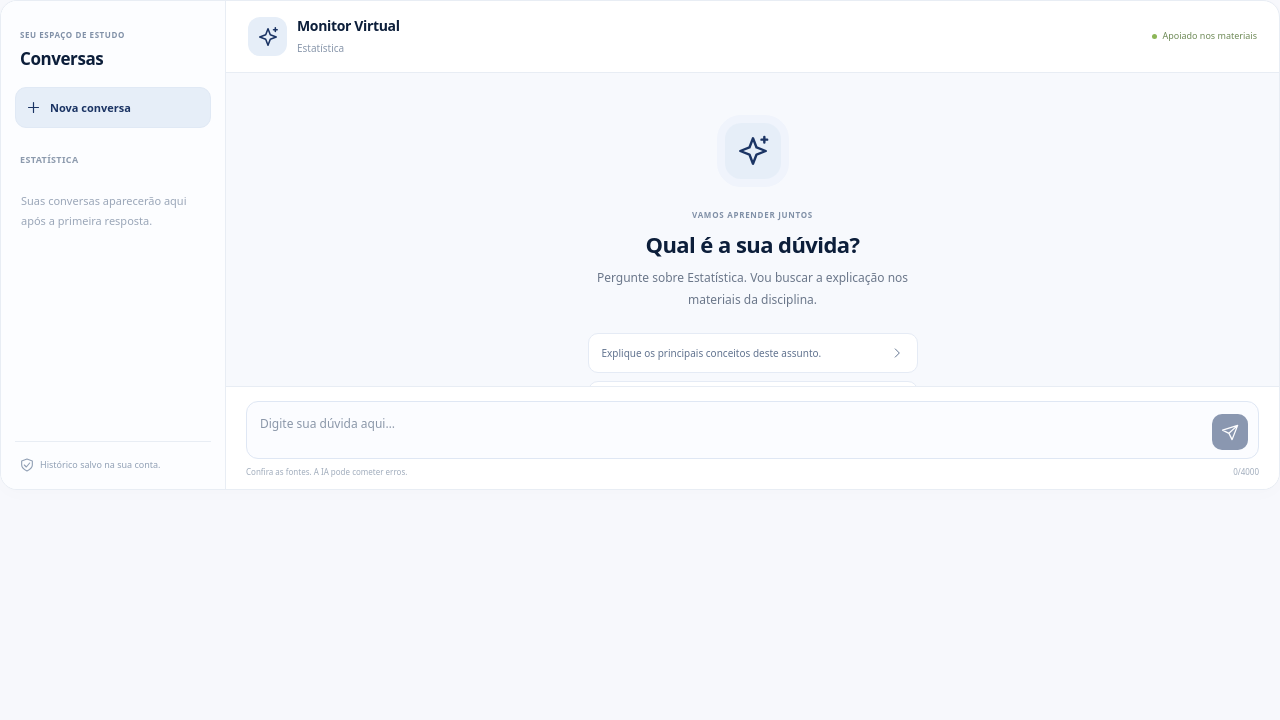
Test: Histórico do Monitor Virtual › mantém várias perguntas e continua usando a conversa salva
Type "Primeira dúvida" into the text box at x=732, y=430, box [260,410,1204,450]
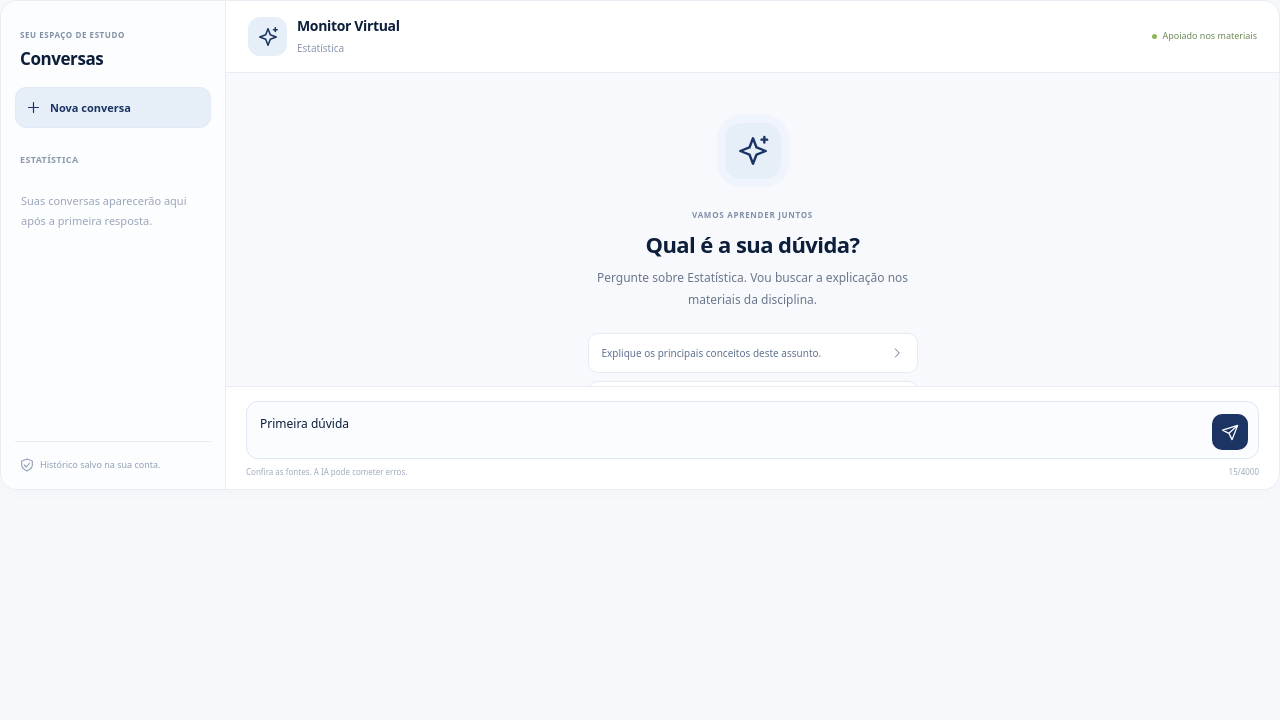
Click the button named "Enviar pergunta" at x=1230, y=432, box [1212,414,1248,450]
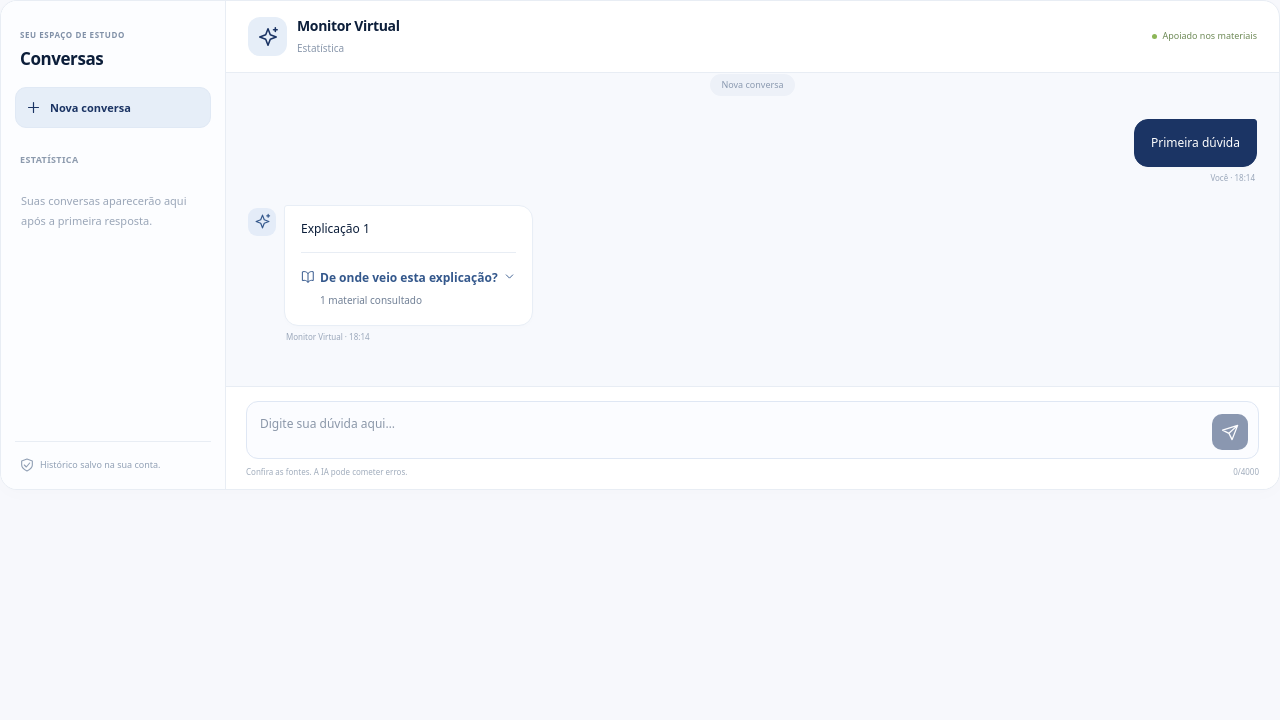
Type "Segunda dúvida" into the text box at x=732, y=430, box [260,410,1204,450]
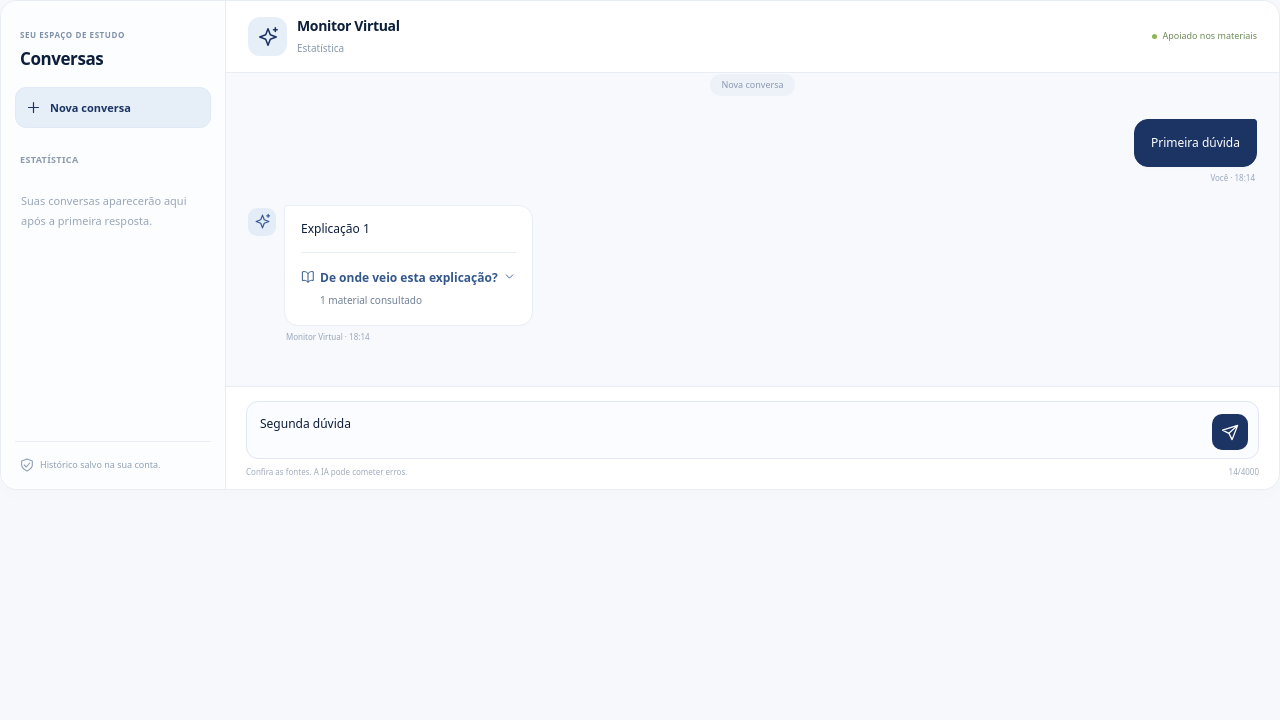
Click the button named "Enviar pergunta" at x=1230, y=432, box [1212,414,1248,450]
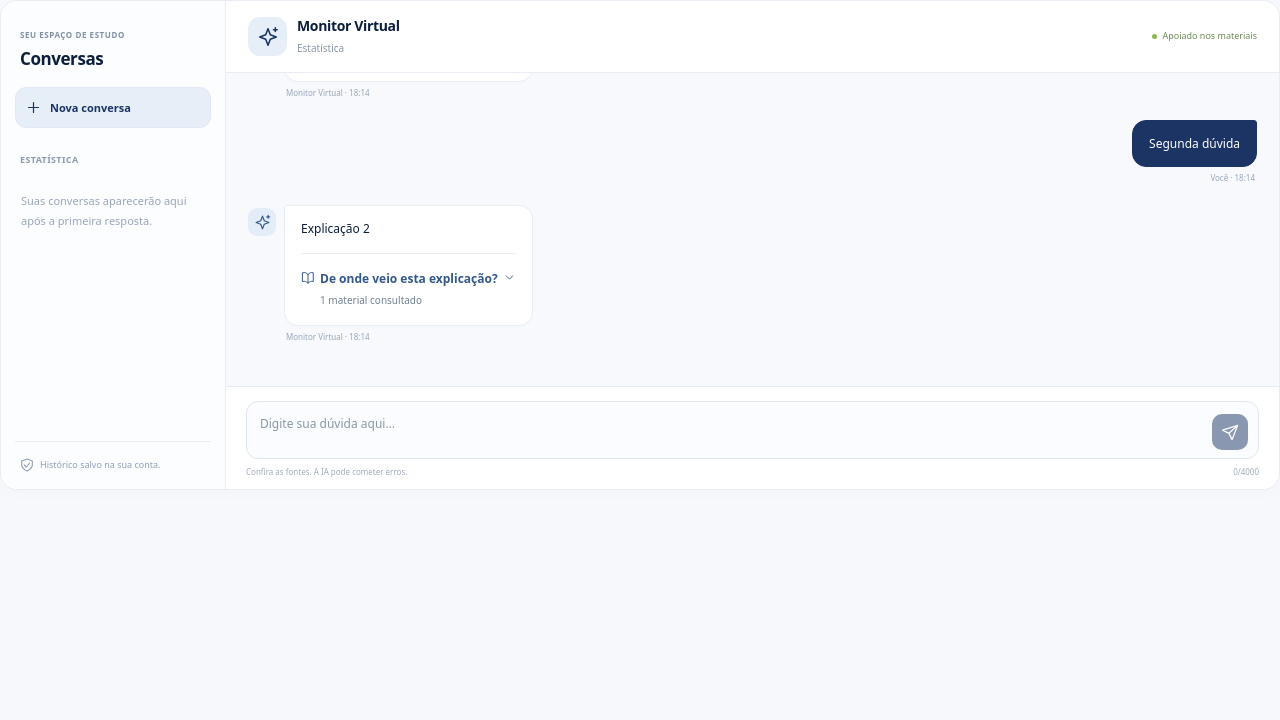
Expected: the text box is enabled, [260,410,1204,450]
Expected: the text "Segunda dúvida" is shown, [1149,133,1240,154]
Expected: the text "Explicação 2" is shown, [301,220,370,237]
